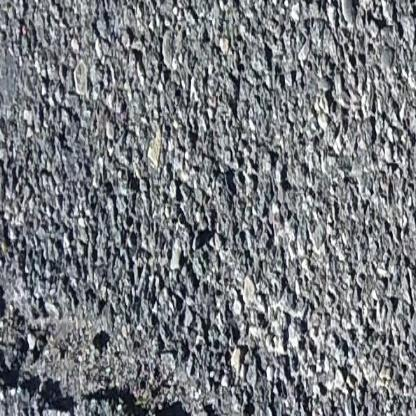Cracks: (0, 231, 226, 416), (90, 328, 114, 364)
